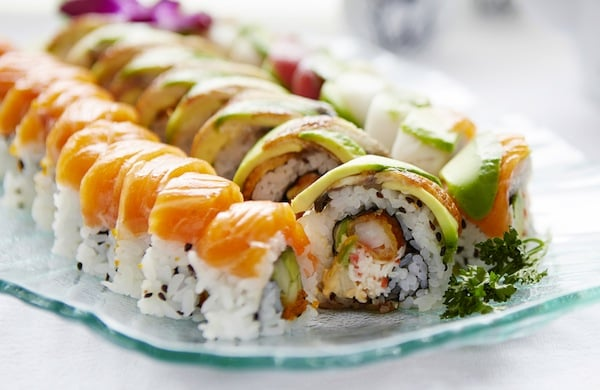curry: (440, 227, 551, 319)
soup: (288, 156, 464, 314)
